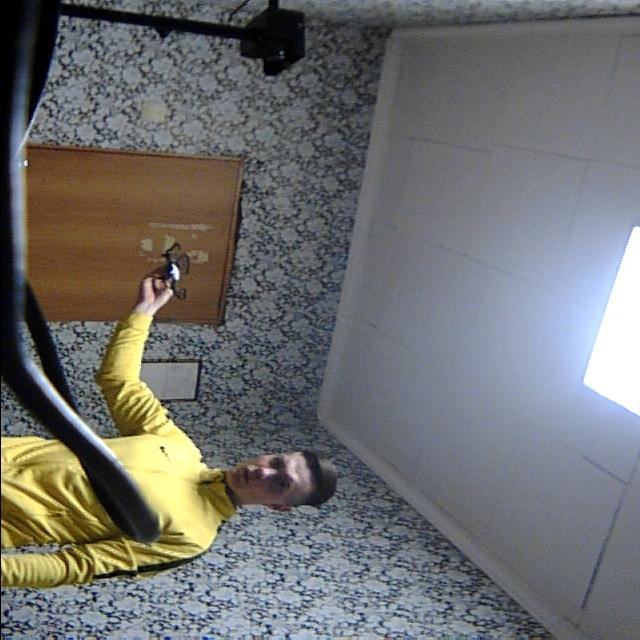drone: (149, 240, 201, 312)
